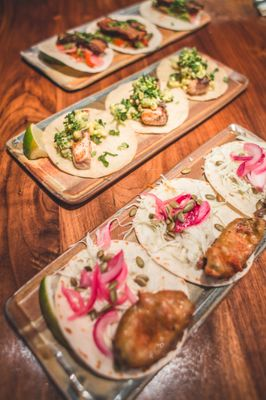curry: (1, 14, 266, 397)
sandwich: (52, 31, 113, 72), (97, 16, 157, 54)
